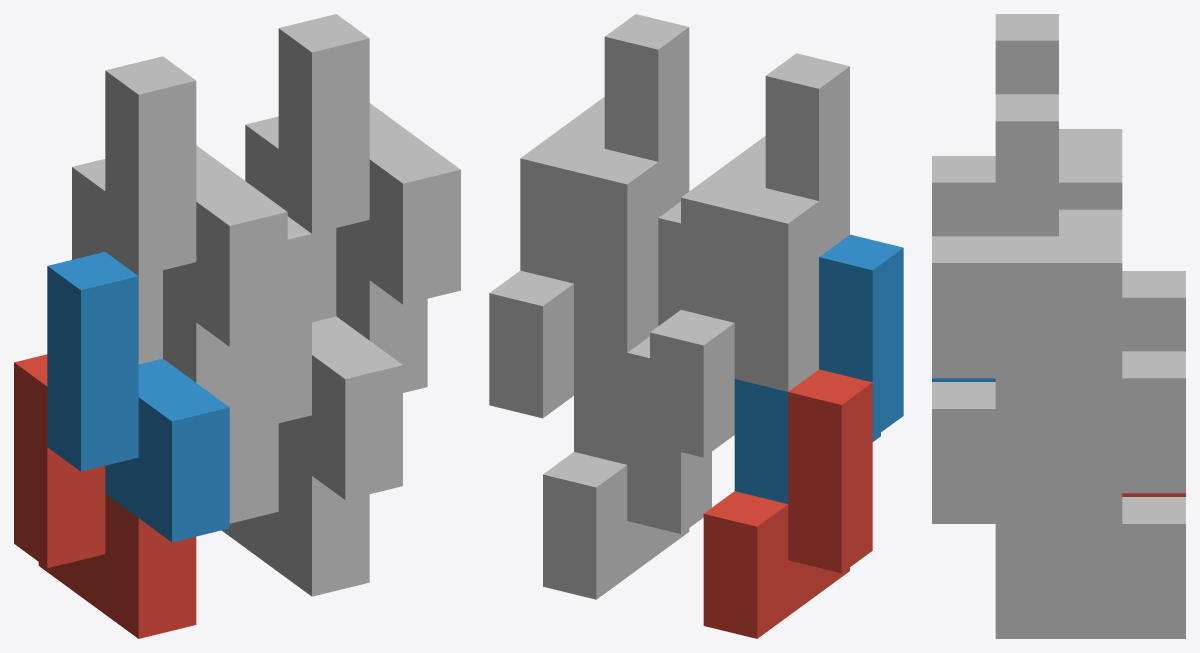
Rendered from tiling.obj.
The picture shows the model from 3 angles, left to right: view 1: azimuth 30°, elevation 25°; view 2: azimuth 150°, elevation 25°; view 3: azimuth 270°, elevation 25°; orthographic projection. The views are drawn at different scales.
Parts seen in each view (by area): view 1: copy_1_domain_4, copy_1_domain_8, copy_1_domain_2, copy_1_domain_1, copy_1_domain_6, copy_1_domain_5, copy_1_domain_3, copy_1_domain_7; view 2: copy_1_domain_1, copy_1_domain_7, copy_1_domain_3, copy_1_domain_8, copy_1_domain_4, copy_1_domain_5, copy_1_domain_2, copy_1_domain_6; view 3: copy_1_domain_8, copy_1_domain_7, copy_1_domain_5, copy_1_domain_4, copy_1_domain_6, copy_1_domain_3.
Part boxes in pixels (box(x1,y1,x2,y2)): copy_1_domain_4: box(105, 56, 287, 346); copy_1_domain_8: box(278, 14, 460, 304); copy_1_domain_2: box(47, 252, 229, 542); copy_1_domain_1: box(14, 354, 196, 638); copy_1_domain_6: box(254, 216, 402, 499); copy_1_domain_5: box(222, 423, 369, 596); copy_1_domain_3: box(72, 159, 254, 435); copy_1_domain_7: box(245, 116, 427, 392); copy_1_domain_1: box(703, 369, 872, 638); copy_1_domain_7: box(489, 149, 658, 418); copy_1_domain_3: box(650, 188, 818, 457); copy_1_domain_8: box(520, 14, 689, 283); copy_1_domain_4: box(681, 53, 849, 322); copy_1_domain_5: box(543, 336, 711, 599); copy_1_domain_2: box(734, 234, 903, 503); copy_1_domain_6: box(574, 201, 680, 464); copy_1_domain_8: box(932, 94, 1122, 378); copy_1_domain_7: box(995, 209, 1185, 493); copy_1_domain_5: box(995, 497, 1185, 638); copy_1_domain_4: box(932, 14, 1122, 236); copy_1_domain_6: box(932, 382, 1122, 523); copy_1_domain_3: box(1059, 129, 1185, 351).
Size of the model in its own units: 6 by 9 by 4.
